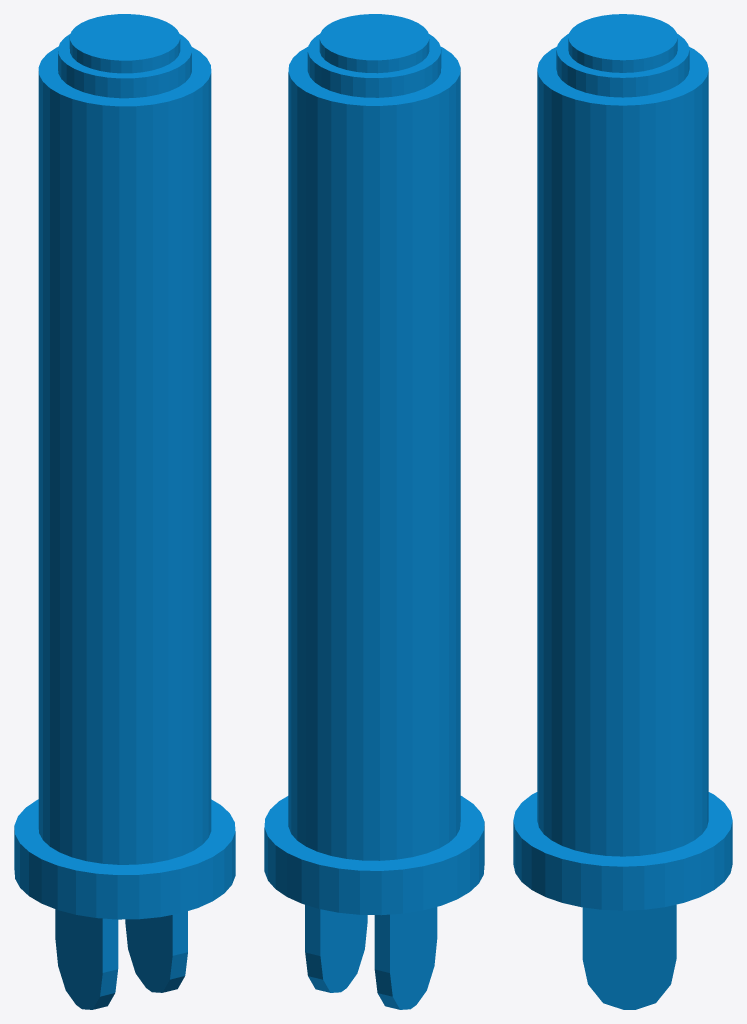
Rendered from gooseCylinder.glb.
3 views of the same model, side by side, from view 1: azimuth 30°, elevation 25°; view 2: azimuth 150°, elevation 25°; view 3: azimuth 270°, elevation 25° (orthographic).
Parts seen in each view (by area): view 1: MainBody.002; view 2: MainBody.002; view 3: MainBody.002.
Boxes of the visible parts, bbox=[...] form: MainBody.002: bbox=[14, 14, 235, 1009]; MainBody.002: bbox=[264, 14, 484, 1009]; MainBody.002: bbox=[513, 14, 732, 1009].
Size of the model in its own units: 1.53 by 7.34 by 1.53.
